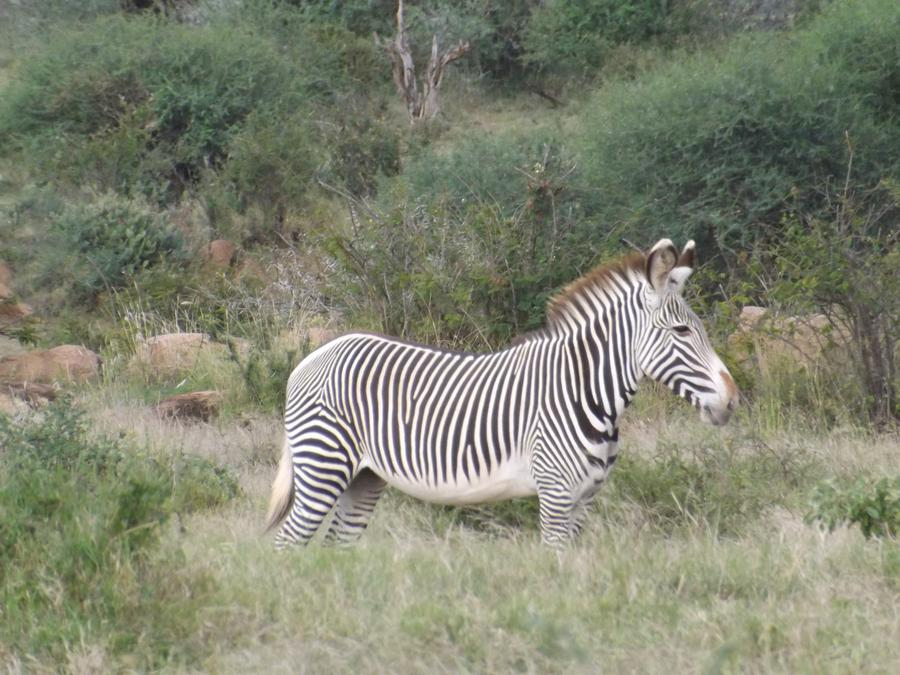zebra_grevys: (275, 308, 599, 500)
